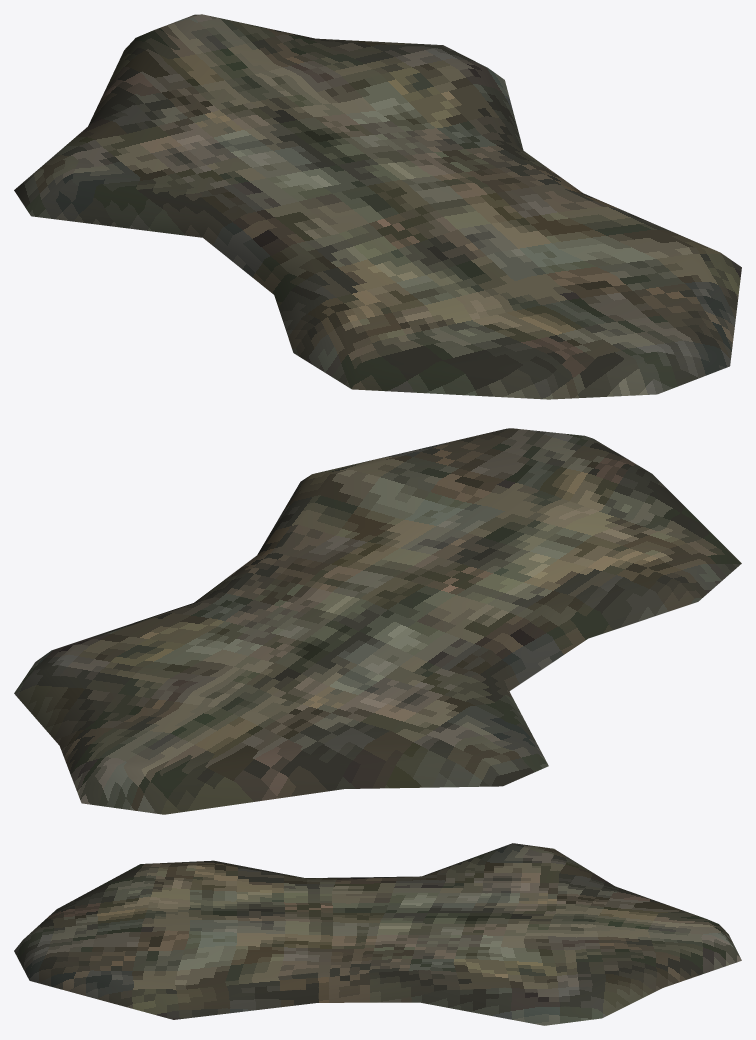
Rendered from con_gen_organic_hide_scaly_l2.fbx.
3 views of the same model, one above another, from view 1: azimuth 30°, elevation 25°; view 2: azimuth 150°, elevation 25°; view 3: azimuth 270°, elevation 25° (orthographic). The views are drawn at different scales.
Visible parts, largest first — view 1: mesh_node; view 2: mesh_node; view 3: mesh_node.
Part boxes in pixels (x1=…): mesh_node: x1=14, y1=14, x2=741, y2=399; mesh_node: x1=14, y1=428, x2=741, y2=814; mesh_node: x1=14, y1=843, x2=741, y2=1025.
Bounding box in the file's own units: 1.14 × 0.0774 × 1.97.
